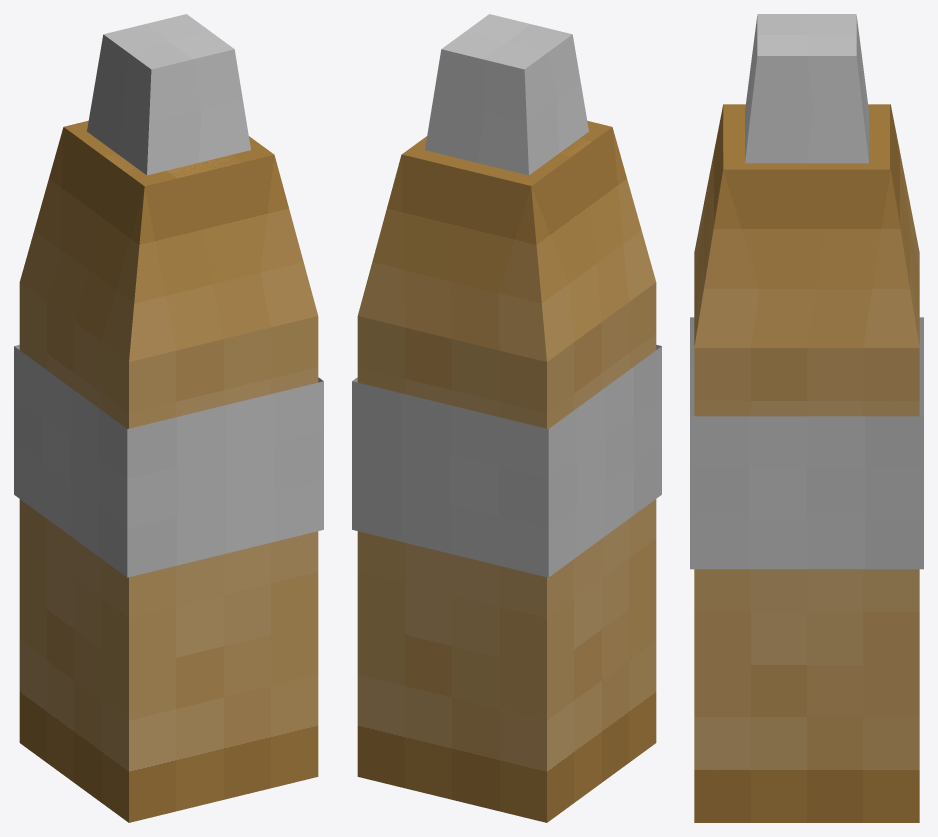
Rendered from gun_4bcal.obj.
3 views of the same model, side by side, from view 1: azimuth 30°, elevation 25°; view 2: azimuth 150°, elevation 25°; view 3: azimuth 270°, elevation 25° (orthographic). The views are drawn at different scales.
Visible parts, largest first — view 1: casing, casing_simple, paint, core_canister; view 2: casing, casing_simple, paint, core_canister; view 3: casing, casing_simple, paint, core_canister.
Boxes of the visible parts, x1,y1,x2,y2 form: casing: (19,121,318,822); casing_simple: (20,121,317,361); paint: (14,345,323,577); core_canister: (87,14,250,175); casing: (357,122,656,822); casing_simple: (358,121,655,361); paint: (352,345,661,577); core_canister: (425,14,588,175); casing: (694,104,919,822); casing_simple: (694,104,919,347); paint: (690,317,923,569); core_canister: (745,14,868,163).
Bounding box in the file's own units: 0.2594 × 0.9062 × 0.2594.
